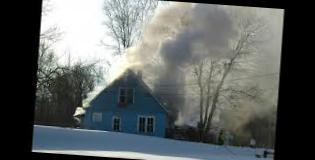Smoke: (124, 0, 282, 127)
